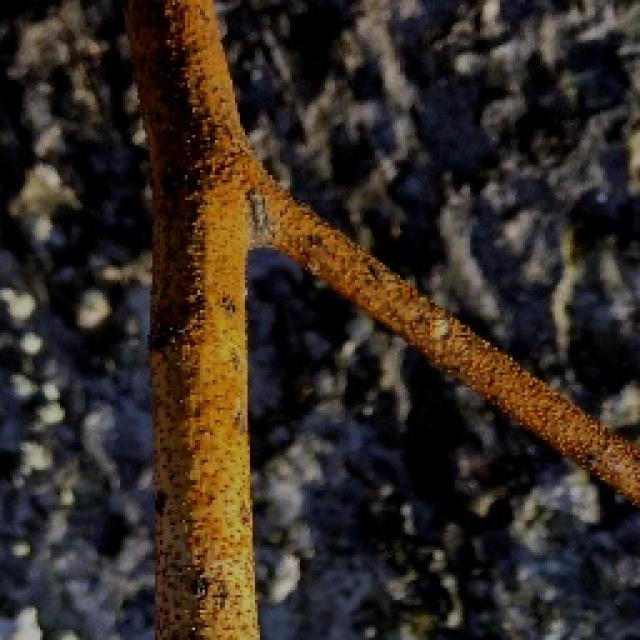Golden_canker: (105, 8, 640, 638)
